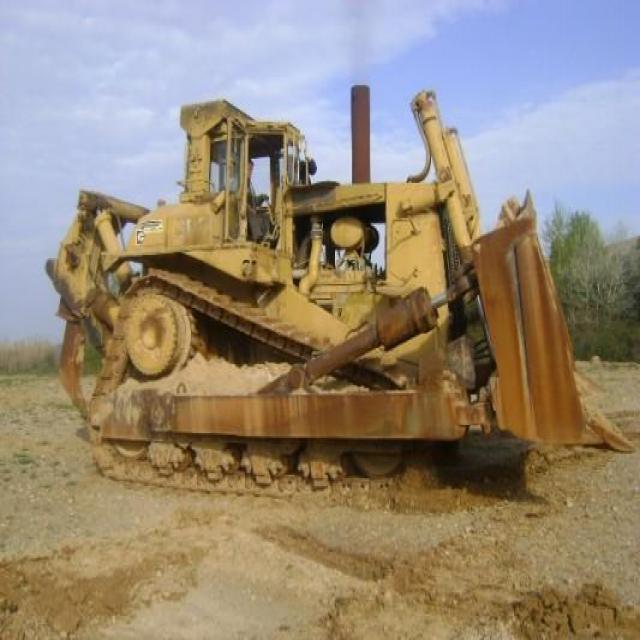Bulldozer: (36, 61, 638, 518)
